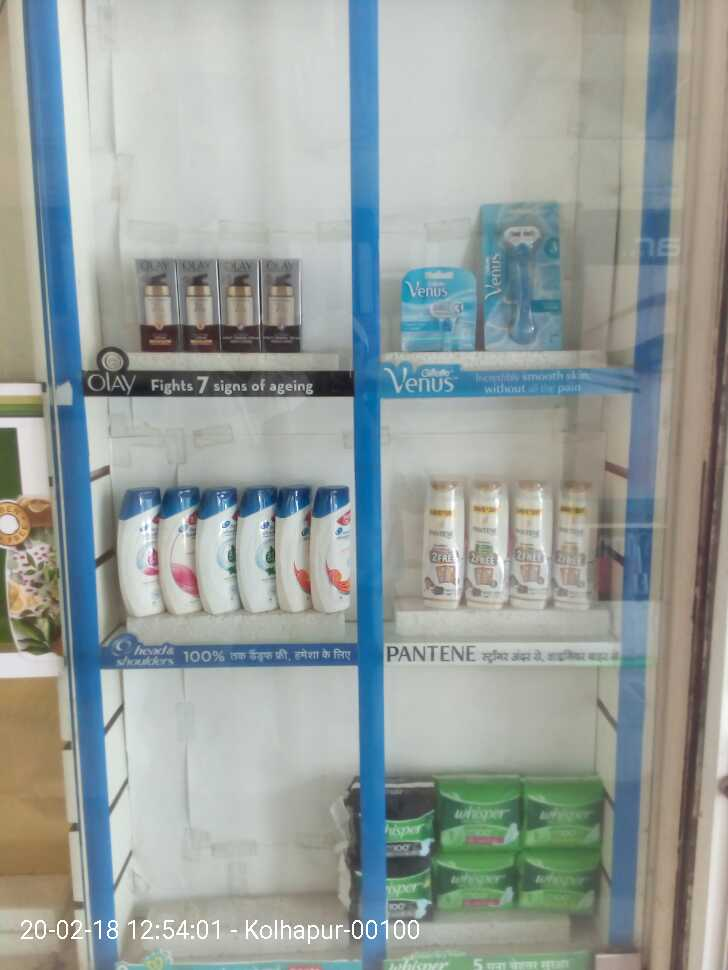venus: (486, 197, 560, 351), (403, 265, 476, 353)
